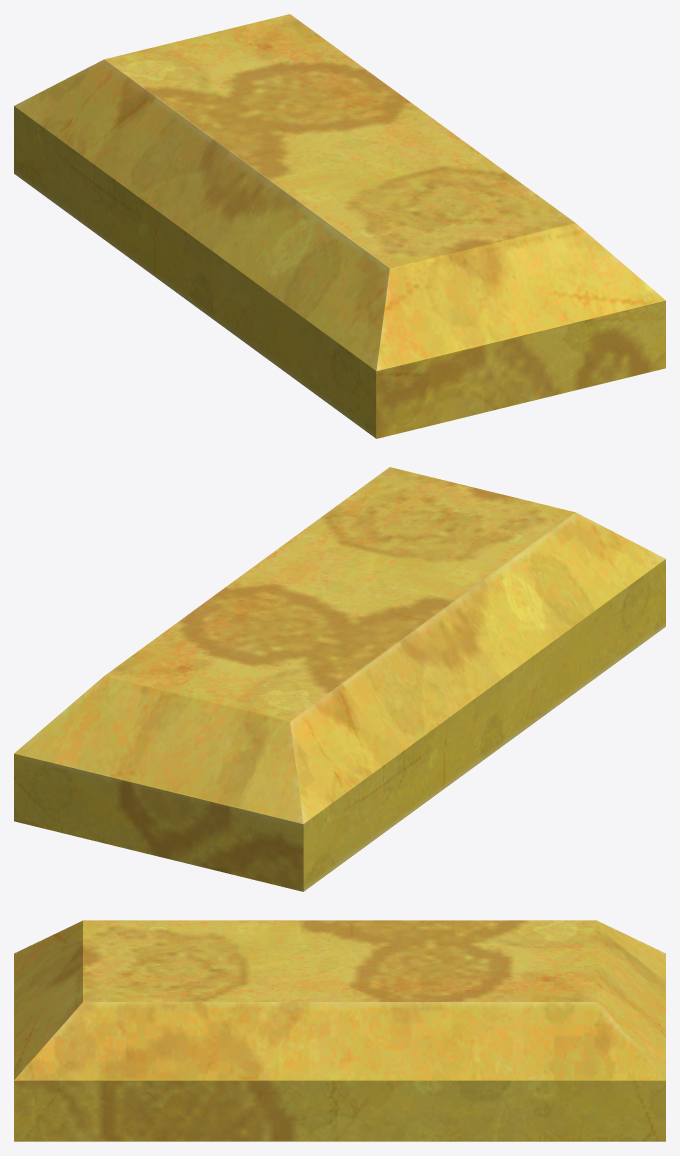
File: GoldIngot.glb
The picture shows the model from 3 angles, top to bottom: view 1: azimuth 30°, elevation 25°; view 2: azimuth 150°, elevation 25°; view 3: azimuth 270°, elevation 25°; orthographic projection. The views are drawn at different scales.
Parts seen in each view (by area): view 1: GoldIngot; view 2: GoldIngot; view 3: GoldIngot.
Part boxes in pixels (left/top/right/bottom): GoldIngot: left=14, top=14, right=665, bottom=438; GoldIngot: left=14, top=467, right=665, bottom=891; GoldIngot: left=14, top=920, right=665, bottom=1141.
Size of the model in its own units: 0.2206 by 0.0945 by 0.4784.
1 material, 1 textured.
